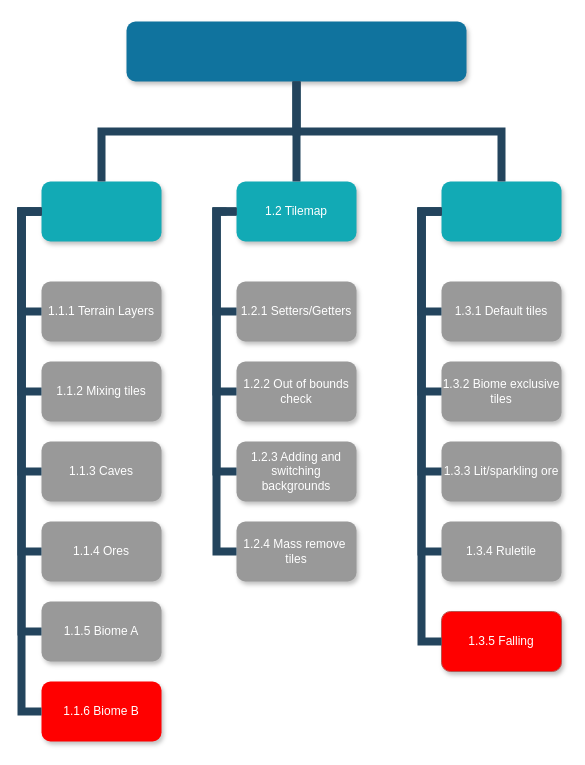
Some shapes in this 585 by 765 pixel diagram are drawn without their labels. The shapes that lost their labels are listed below. From the top down, each one's centre as x and y in pixels, then its label:
At point (297, 52): "Tailesmeps".
At point (102, 212): "1.1 Generation Phases".
At point (502, 212): "1.3 Tiles".
